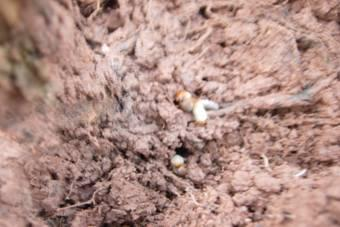grub: (175, 88, 226, 129)
